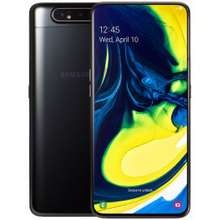phone: (88, 1, 195, 220), (26, 1, 103, 218)
